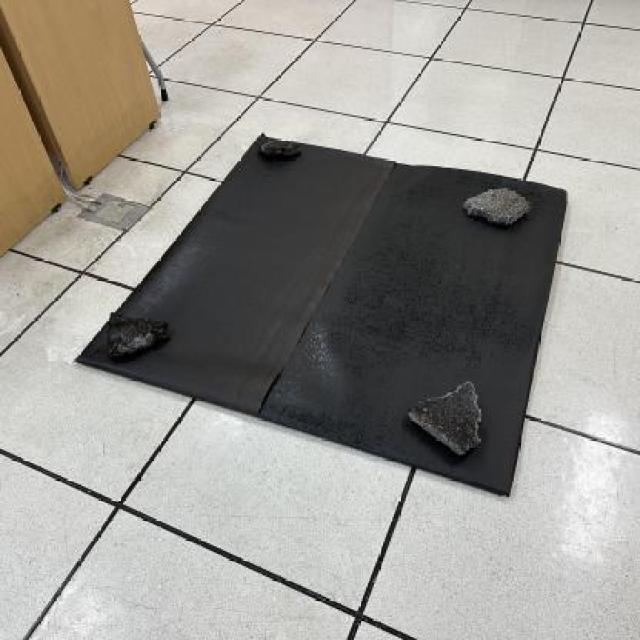Road Debris: (410, 382, 488, 452), (463, 186, 526, 226), (104, 314, 173, 348), (258, 138, 304, 158)
